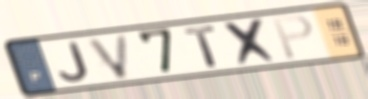7: (135, 27, 176, 77)
J: (57, 40, 91, 83)
P: (270, 13, 315, 62)
T: (181, 24, 221, 69)
V: (84, 32, 131, 81)
X: (220, 16, 283, 68)
